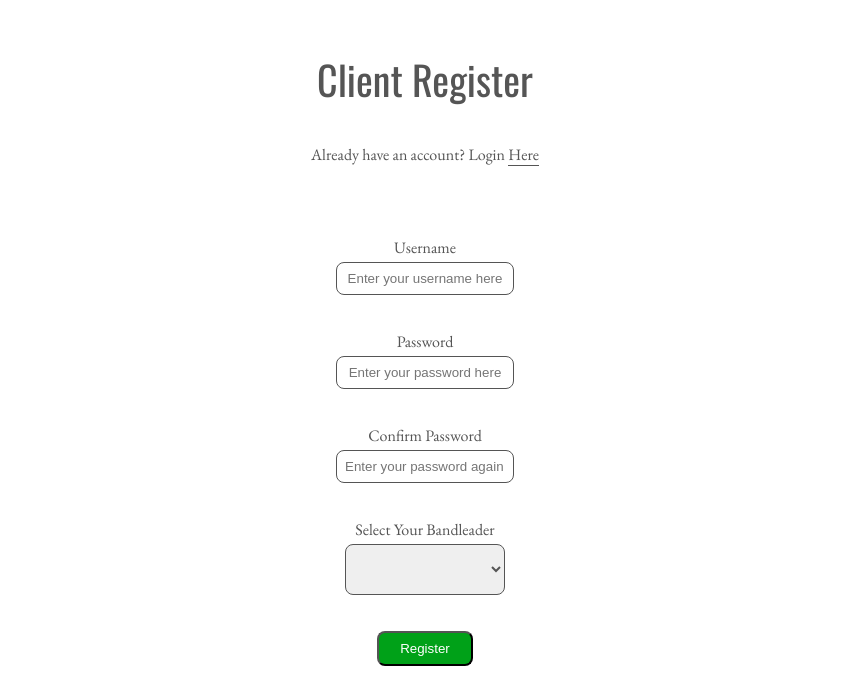
Test: <ClientRegisterPage/> › Successfully register user - redirected to client home
Type "testuser@gmail.com" into the field with test id "UsernameTextInput" at (425, 278), box [336,262,514,295]
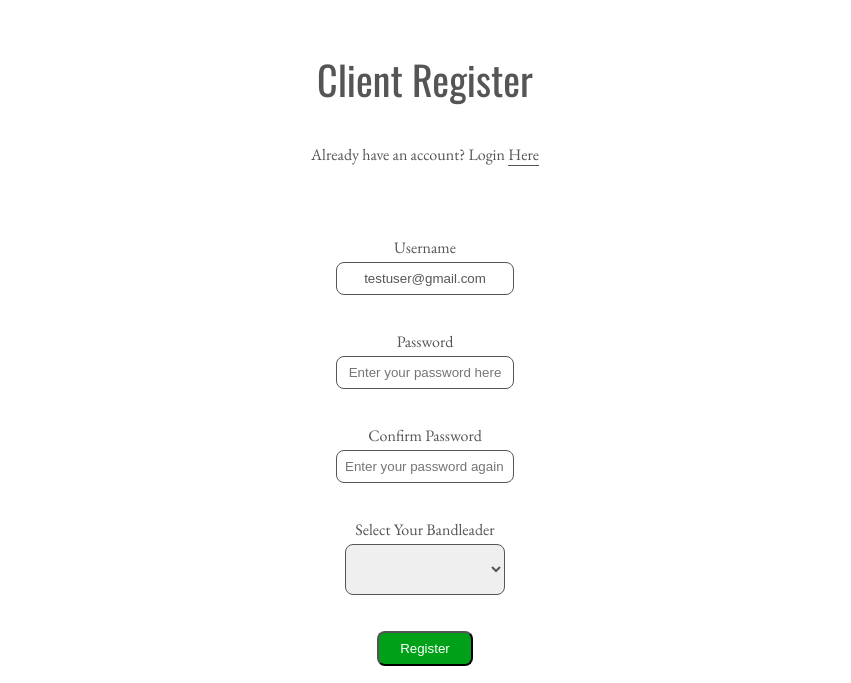
Type "testpassword" into the password field with test id "PasswordTextInput" at (425, 372), box [336,356,514,389]
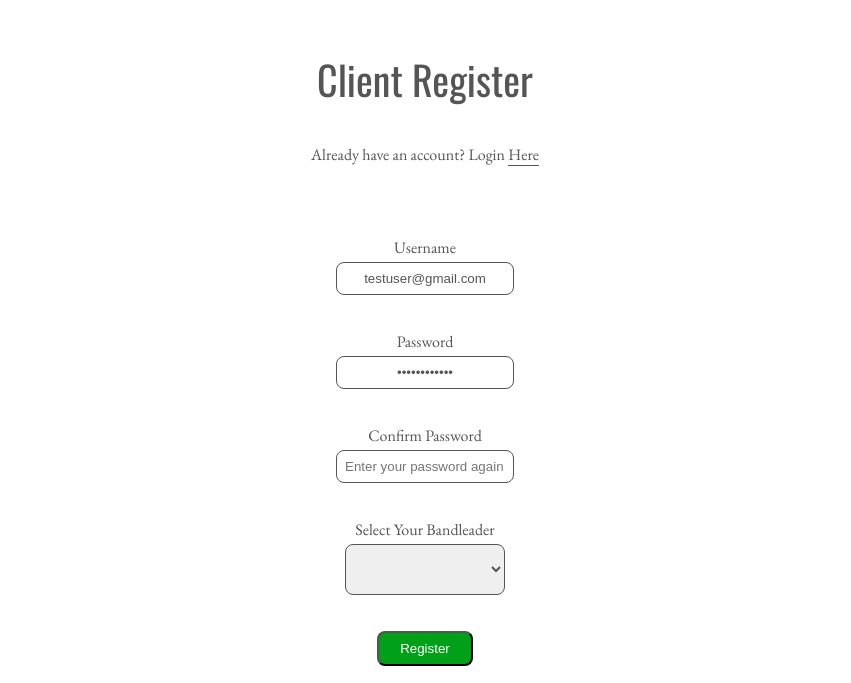
Type "testpassword" into the password field with test id "Confirm PasswordTextInput" at (425, 466), box [336,450,514,483]
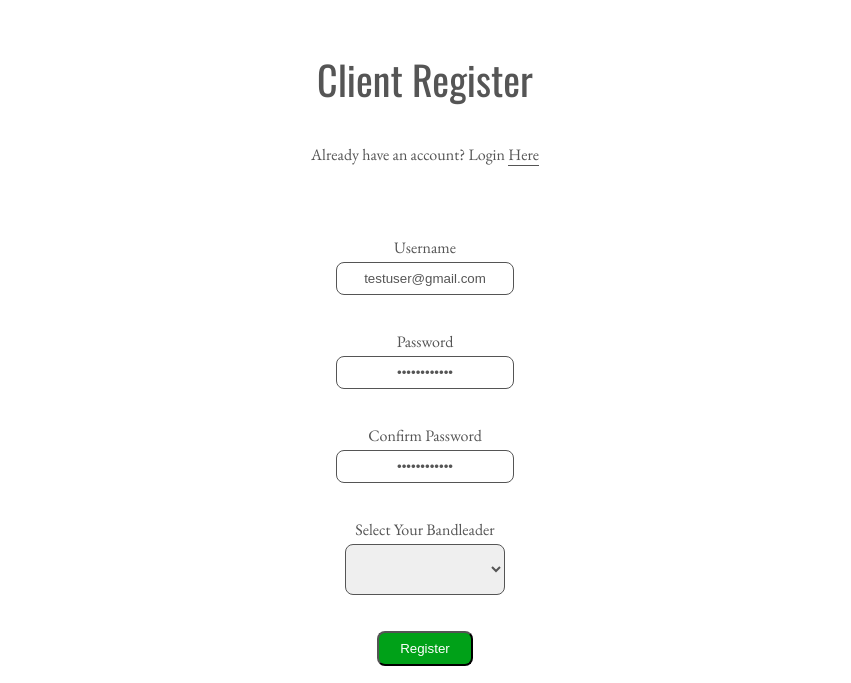
Select "testbandleader@gmail.com" in the dropdown with test id "Select Your BandleaderDropdown" at (425, 569), box [345,544,505,595]
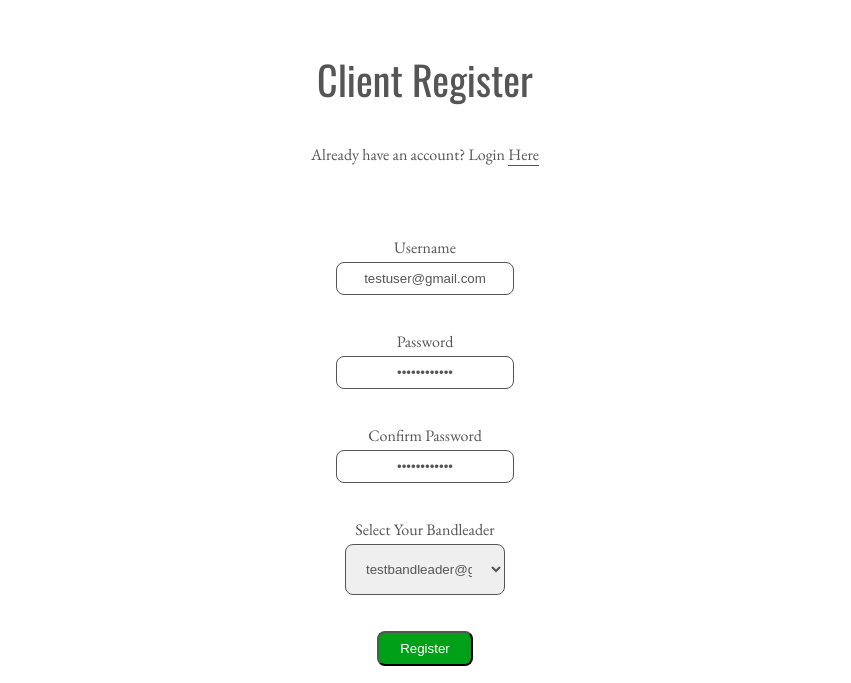
Click the button "Register" at (425, 648), box [377,631,473,666]
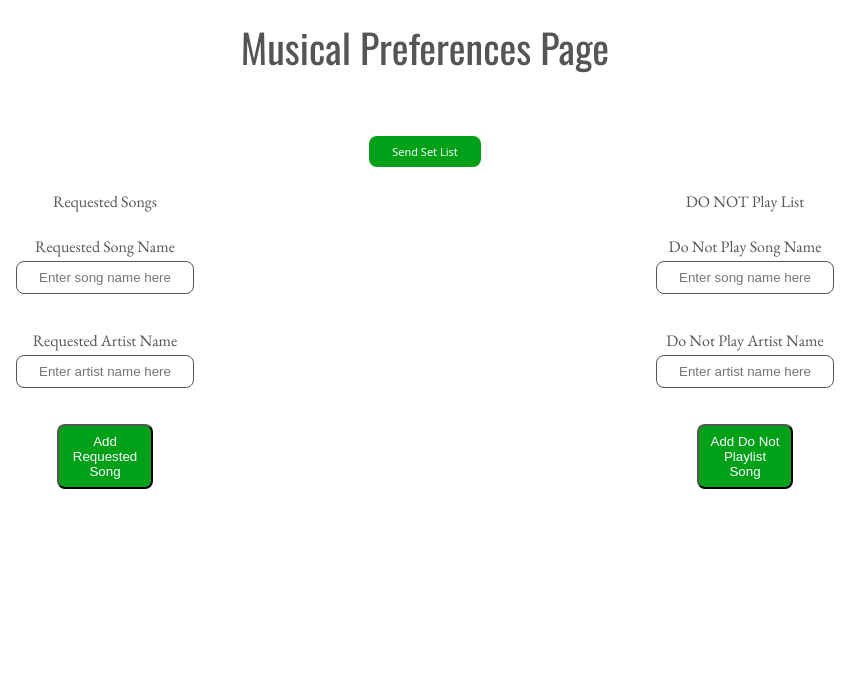
Expected: the heading "Musical Preferences Page" is shown, [241,17,609,77]
